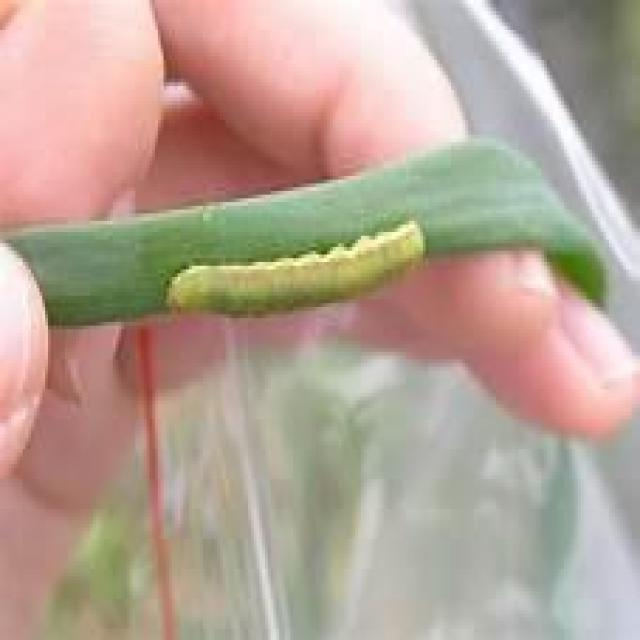BeetArmyWorm-Larva-: (158, 218, 427, 326)
